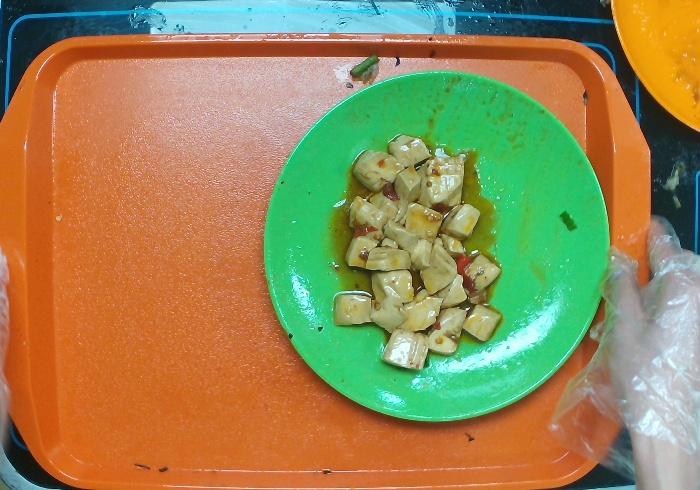HZYJPL-Lv_Se_Yuan_Pan: (257, 66, 616, 419)
